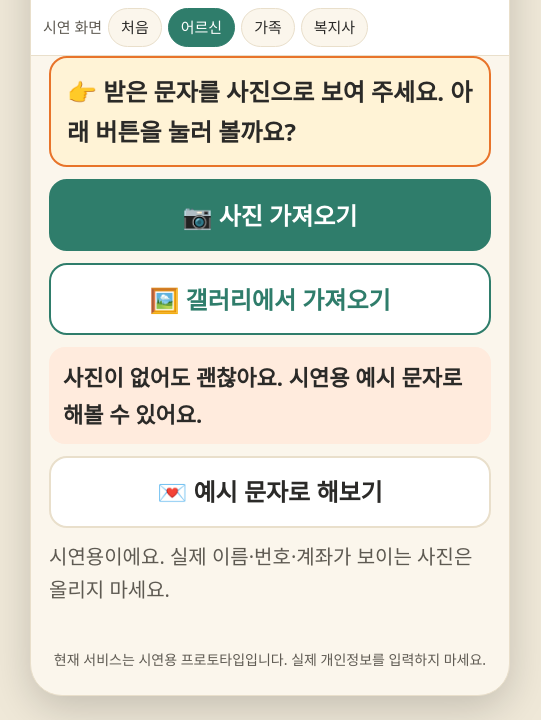
디지털 동행 주요 흐름 › AI가 확정 표현을 쓰면 버리고 예시 분석으로 대체
(page scrolled)
Click the button "💌 예시 문자로 해보기": coordinates (270, 492) left=49, top=456, right=491, bottom=528
(page scrolled)
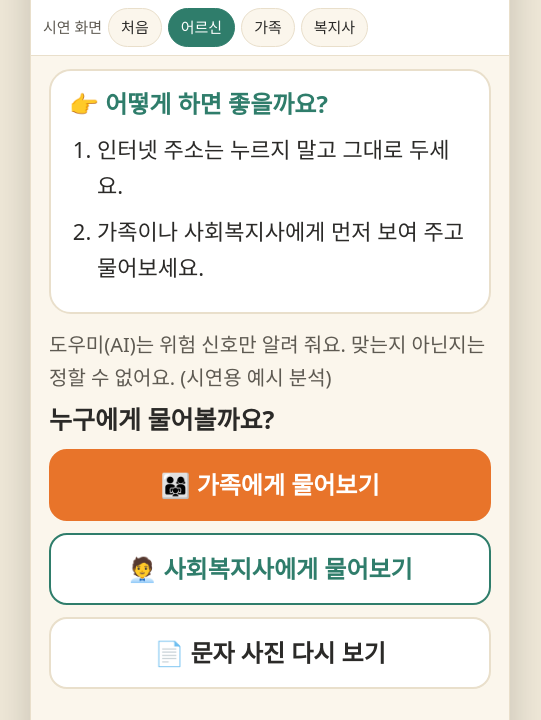
Expected: the text "도우미(AI)는 위험 신호만 알려 줘요. 맞는지 아닌지는 정할 수 없어요. (시연용 예시 분석)" is shown, left=49, top=328, right=491, bottom=394
